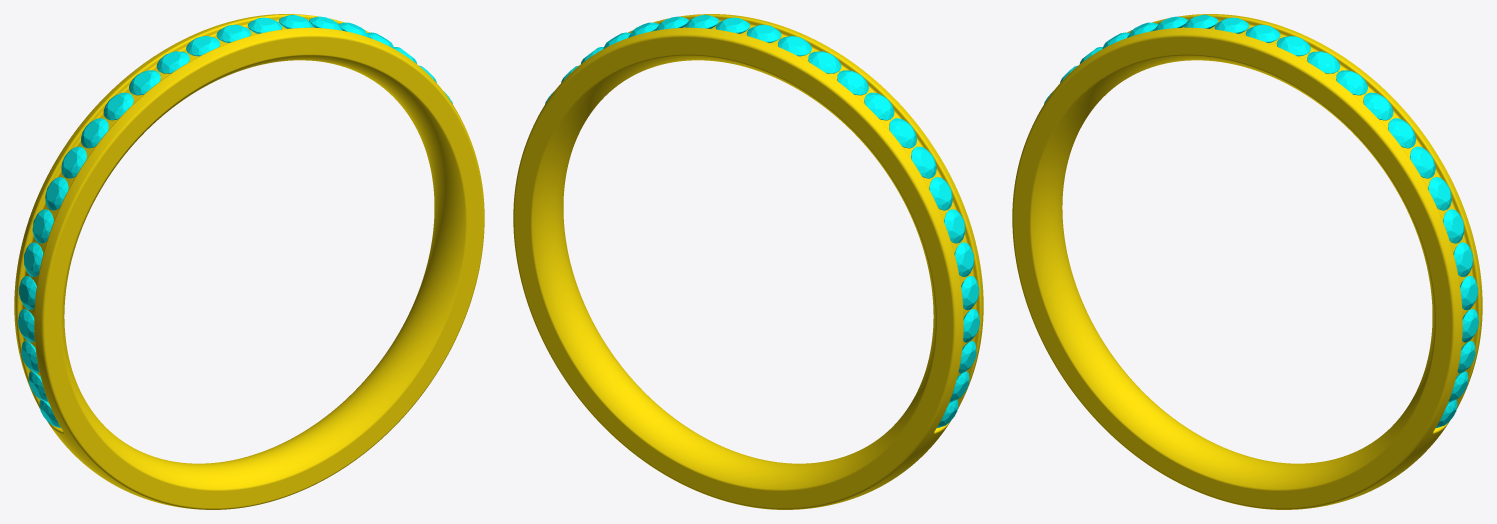
File: et_channel_1.glb
3 views of the same model, side by side, from view 1: azimuth 30°, elevation 25°; view 2: azimuth 150°, elevation 25°; view 3: azimuth 330°, elevation 25° (orthographic).
Parts seen in each view (by area): view 1: ET-Channel-1.3dm; view 2: ET-Channel-1.3dm; view 3: ET-Channel-1.3dm.
Boxes of the visible parts, x1,y1,x2,y2 form: ET-Channel-1.3dm: (14, 14, 484, 509); ET-Channel-1.3dm: (513, 14, 983, 509); ET-Channel-1.3dm: (1012, 14, 1482, 509).
Bounding box in the file's own units: 2.82 × 2.82 × 0.3153.
